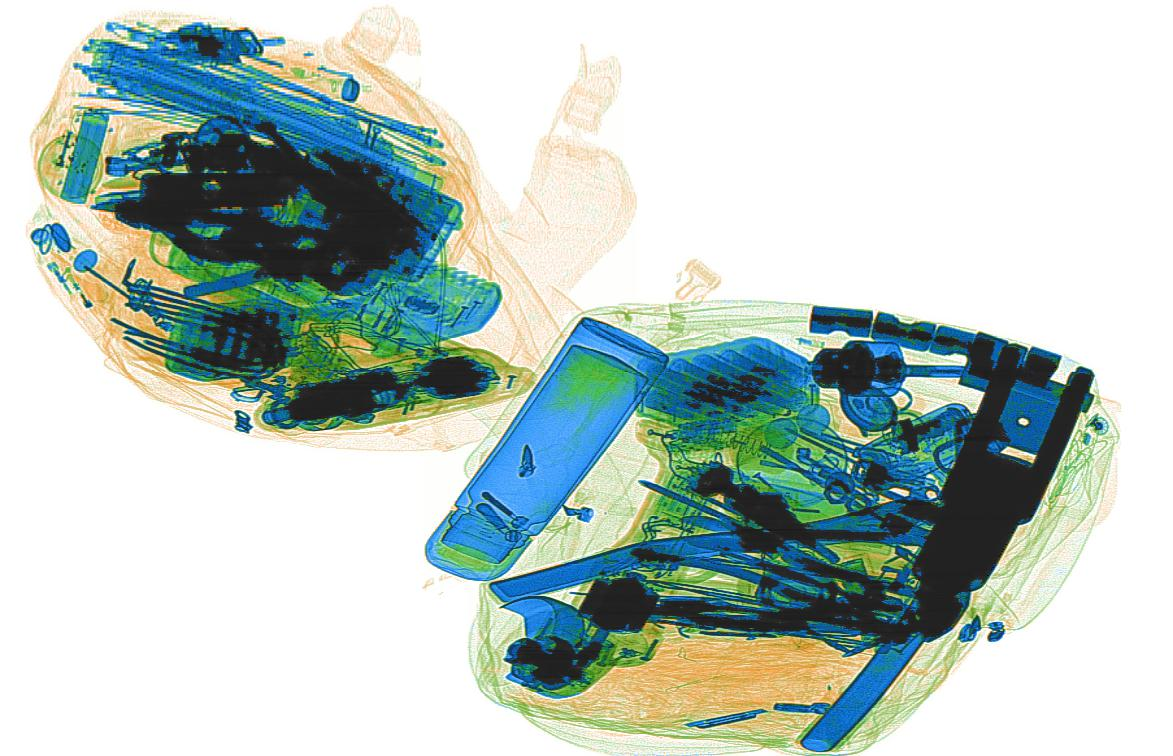battery: (632, 329, 825, 440), (165, 289, 303, 384), (60, 110, 110, 207)
lighter: (43, 251, 108, 337)
